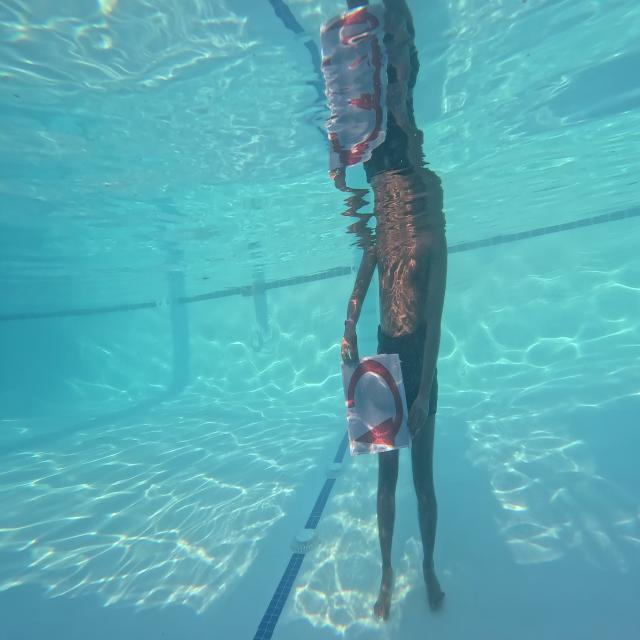red_side: (345, 367, 410, 453)
